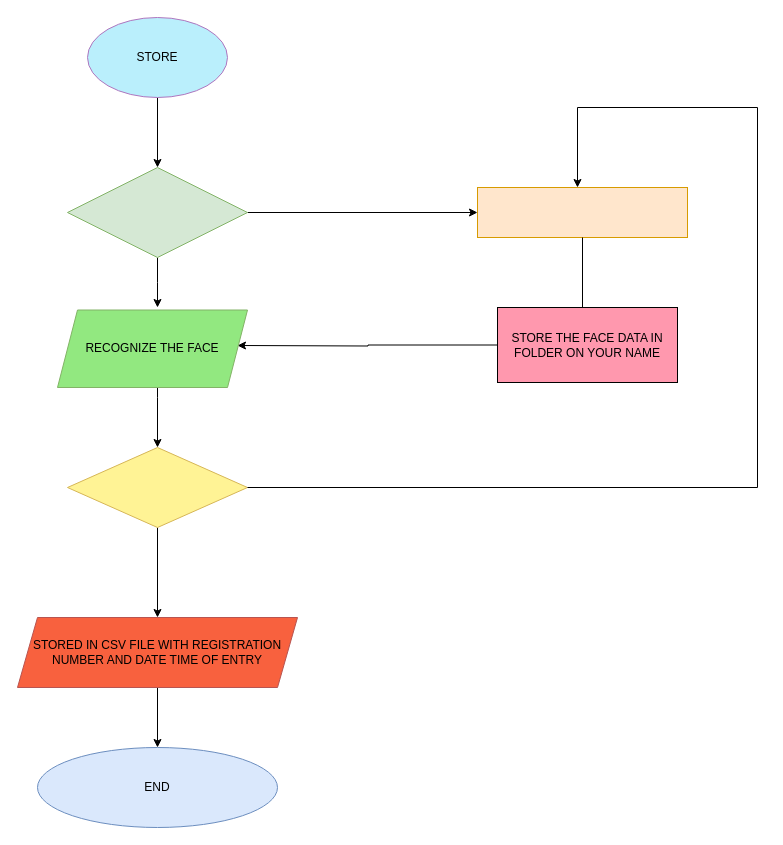
Some shapes in this 783 by 845 pixel diagram are drawn without their labels. Here are the shapes that lost their labels. From the top down, the box of each, then its label:
(66, 166, 248, 258): NEW USER?
(476, 186, 688, 238): GIVE YOUR PHOTOGRAPH
(66, 446, 248, 528): FACE RECOGNIZED
